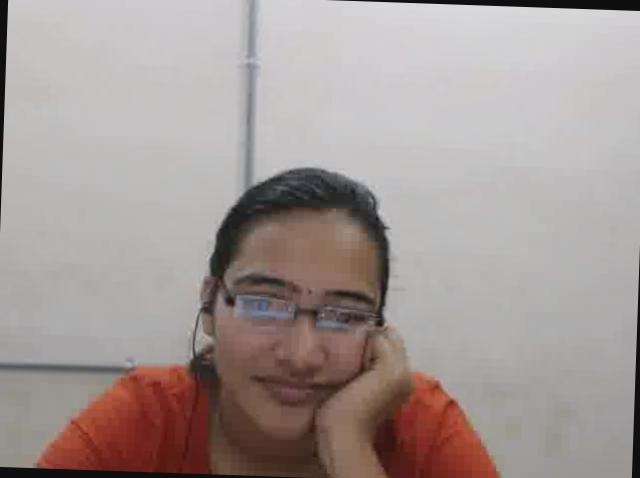bosan: (208, 224, 386, 442)
